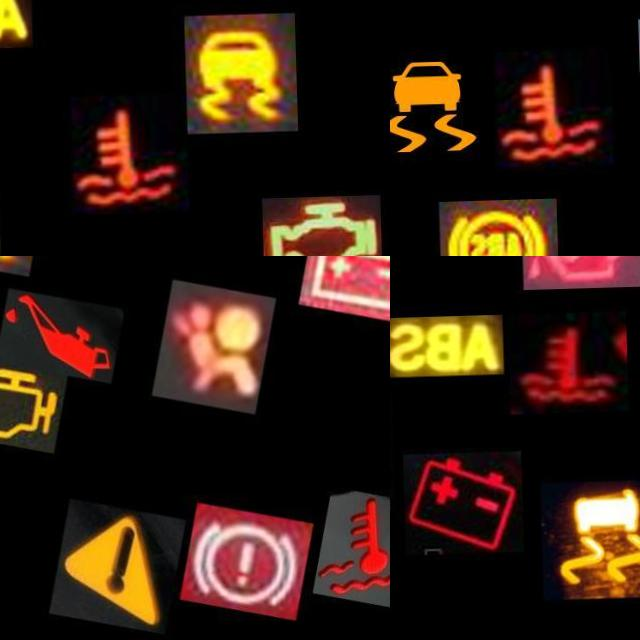Central Warning lamp: (43, 497, 186, 638)
Engine cooling system: (66, 96, 187, 217), (490, 51, 611, 172), (506, 315, 626, 417), (306, 486, 390, 619)
